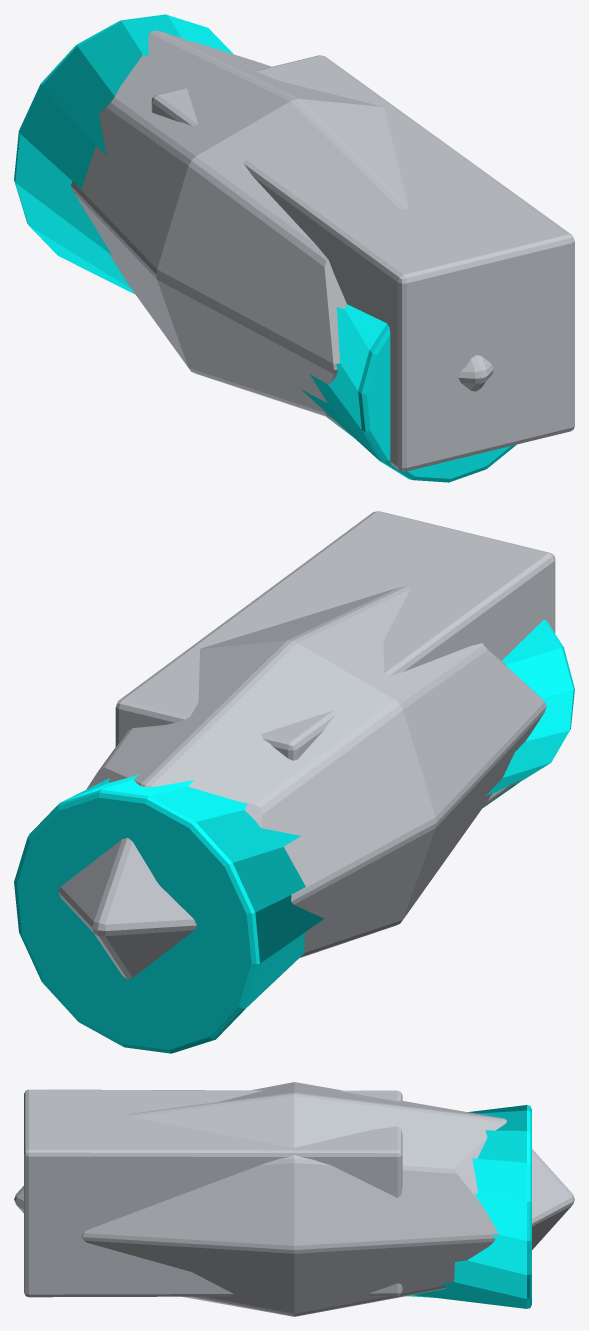
3 renders of one model, top to bottom at view 1: azimuth 30°, elevation 25°; view 2: azimuth 150°, elevation 25°; view 3: azimuth 270°, elevation 25°, orthographic. The views are drawn at different scales.
Parts seen in each view (by area): view 1: part_04_gltf_export_temp; view 2: part_04_gltf_export_temp; view 3: part_04_gltf_export_temp.
Part boxes in pixels (bbox=[...]): part_04_gltf_export_temp: bbox=[14, 14, 574, 482]; part_04_gltf_export_temp: bbox=[14, 511, 574, 1053]; part_04_gltf_export_temp: bbox=[14, 1082, 574, 1316].
Bounding box in the file's own units: 0.5663 × 0.5515 × 1.33.
